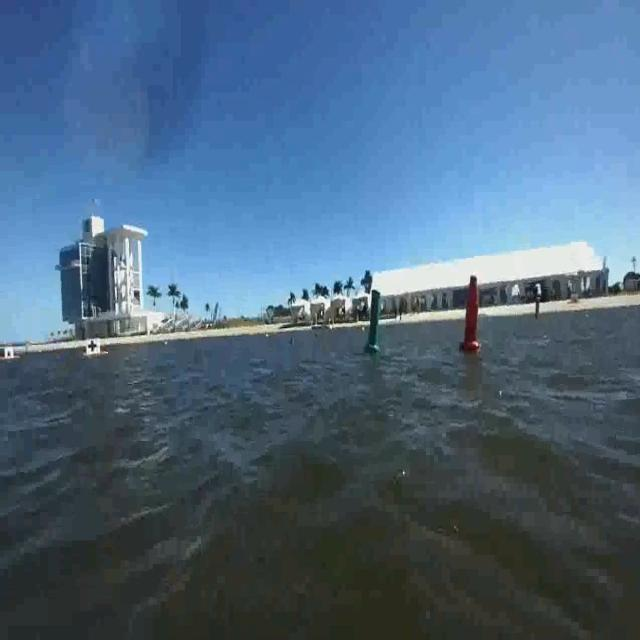green-column-buoy: (363, 287, 382, 353)
red-column-buoy: (459, 273, 481, 353)
